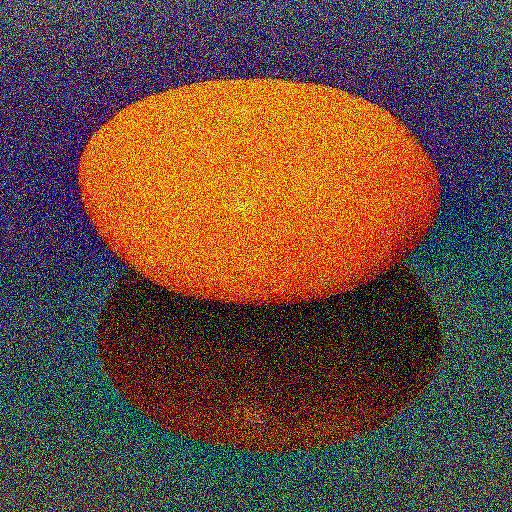fruit: (376, 165, 494, 512), (380, 99, 484, 355)
